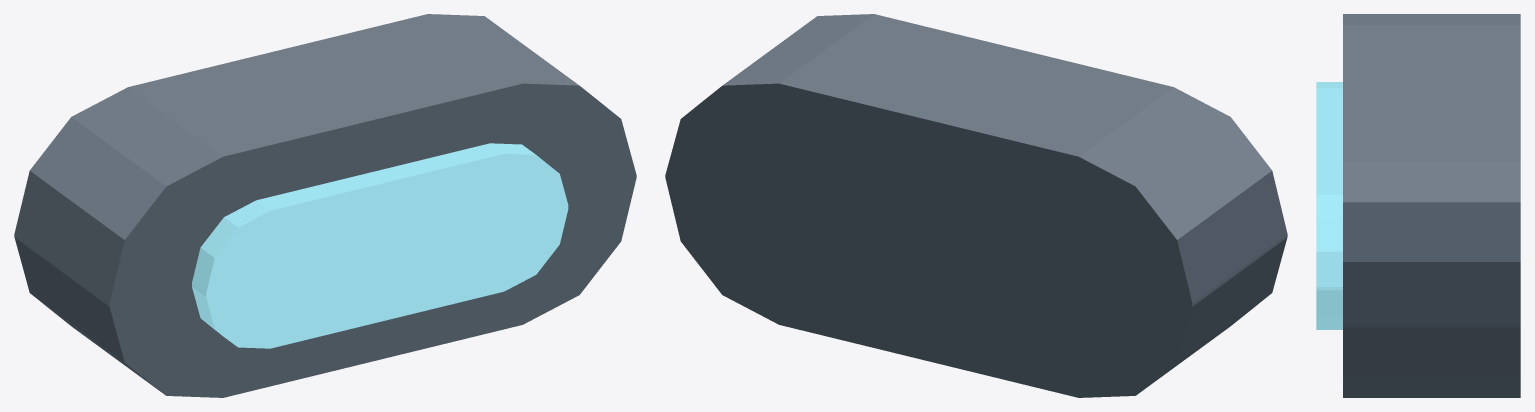
File: Signal_Lamp.gltf
3 views of the same model, side by side, from view 1: azimuth 30°, elevation 25°; view 2: azimuth 150°, elevation 25°; view 3: azimuth 270°, elevation 25° (orthographic). The views are drawn at different scales.
Parts seen in each view (by area): view 1: Signal_Lamp_baked; view 2: Signal_Lamp_baked; view 3: Signal_Lamp_baked.
Boxes of the visible parts, x1,y1,x2,y2 form: Signal_Lamp_baked: (14, 14, 636, 397); Signal_Lamp_baked: (665, 14, 1287, 397); Signal_Lamp_baked: (1316, 14, 1520, 397).
Bounding box in the file's own units: 0.32 × 0.14 × 0.115.
